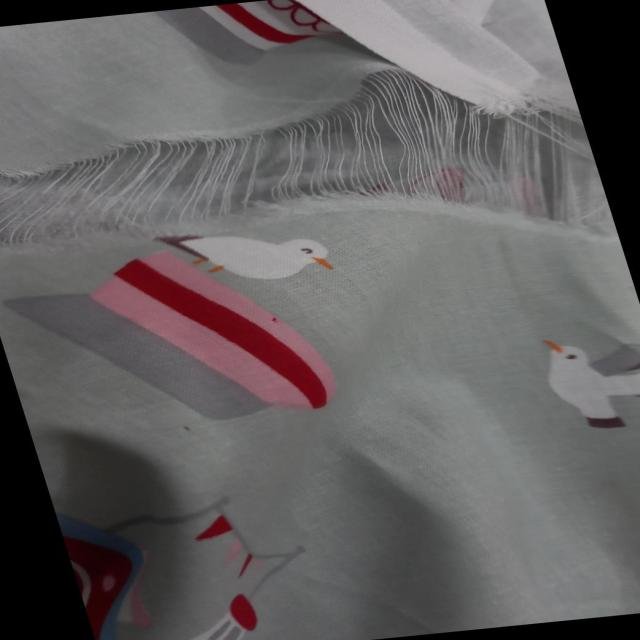cut: (0, 45, 618, 297)
